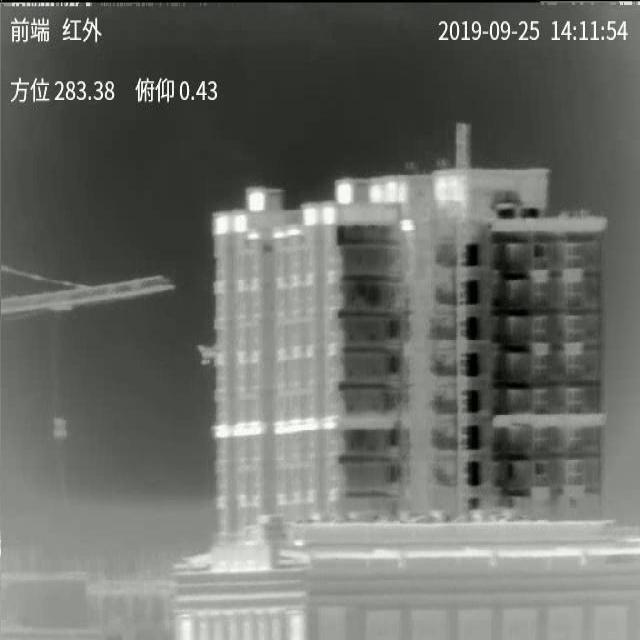drone: (197, 345, 221, 364)
